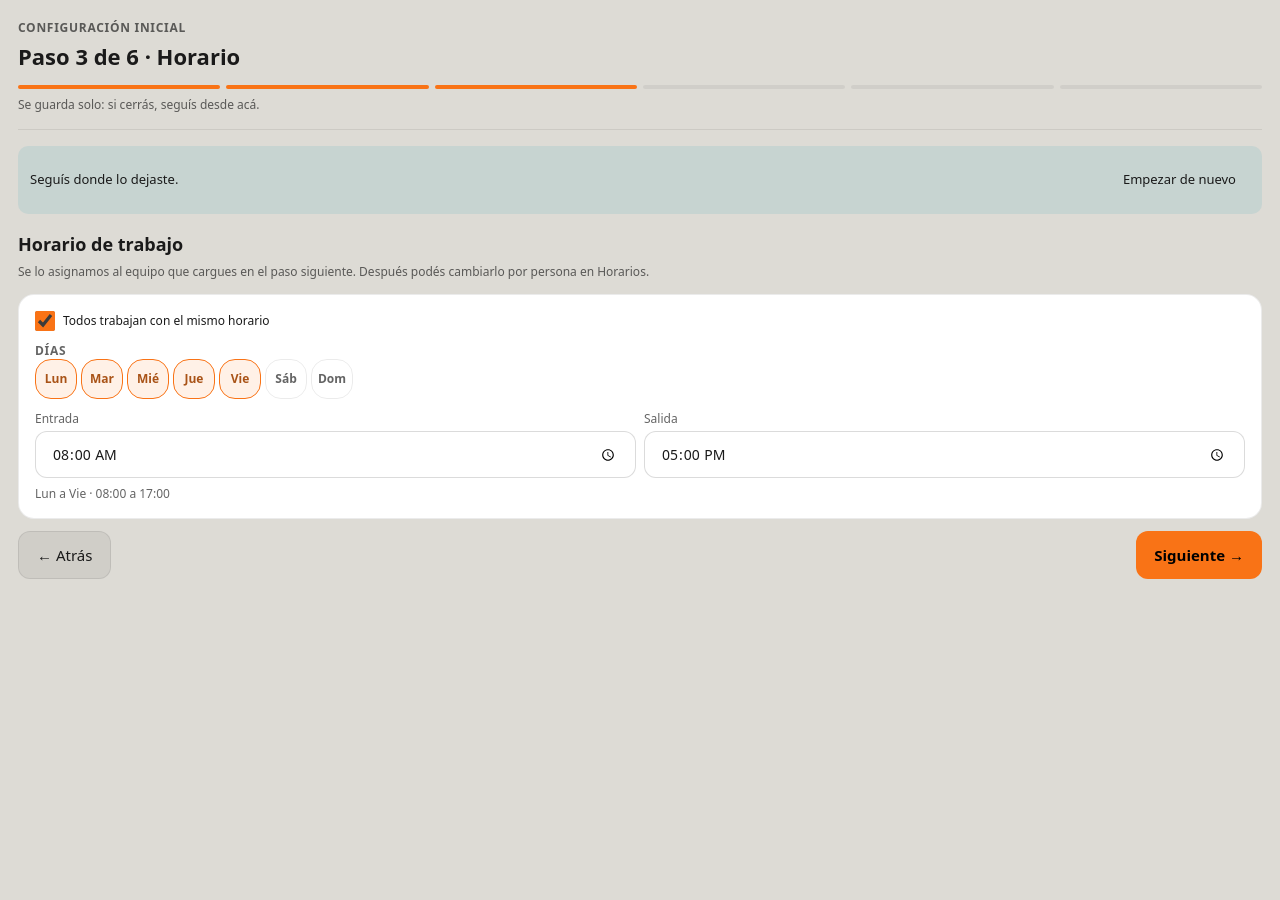
Test: Borrador — «Empezar de nuevo» lo borra y vuelve al paso 1
This screenshot has width=1280, height=900.
Expected: the heading "Paso 3 de 6 · Horario" is shown, [18,41,240,71]
What coordinates should you click on to do the following:
click the button "Empezar de nuevo"
I would click on:
 (1179, 180)
Its box is [1109,158,1250,202].
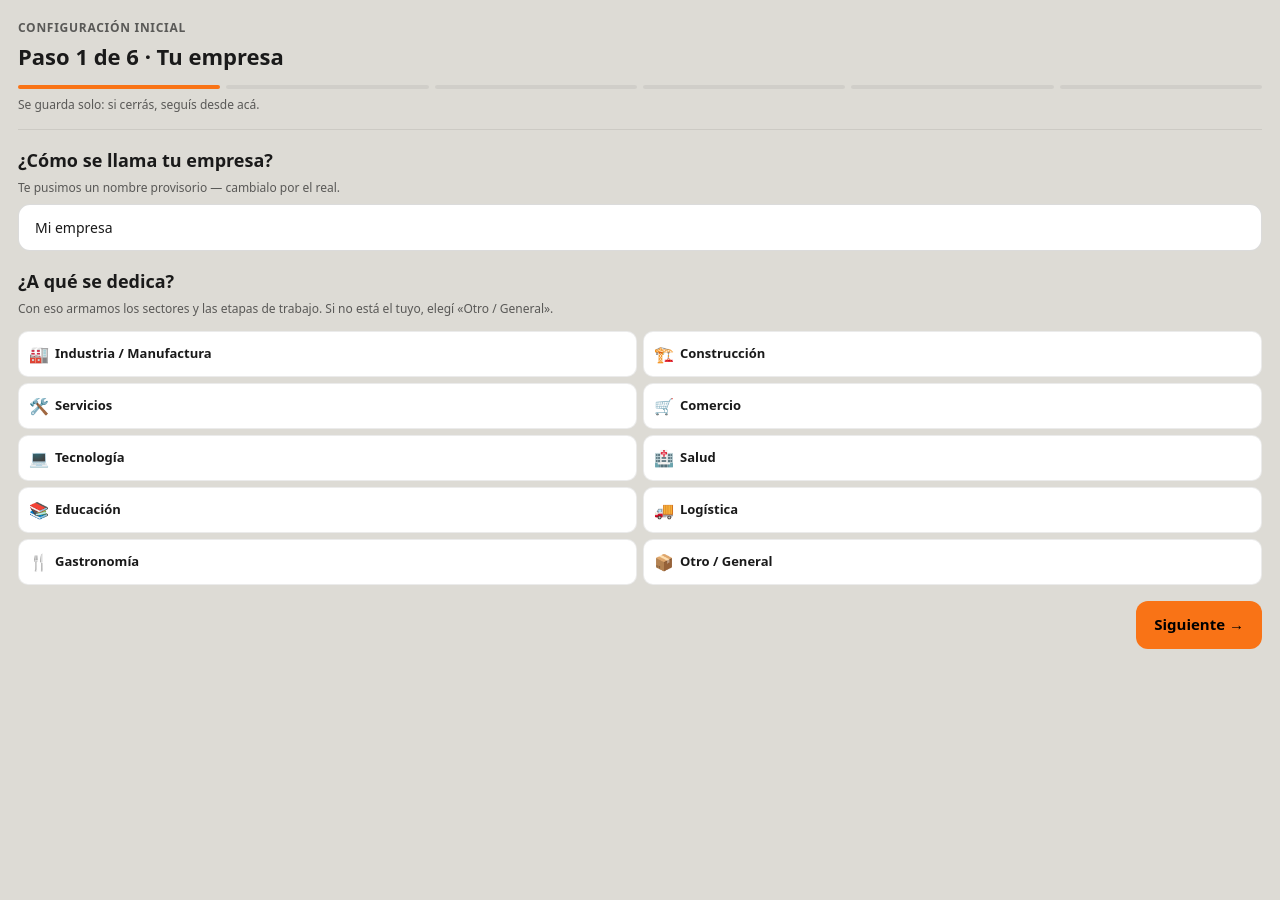
Expected: the heading "Paso 1 de 6 · Tu empresa" is shown, [18,41,284,71]
Expected: the text "Seguís donde lo dejaste." is gone
